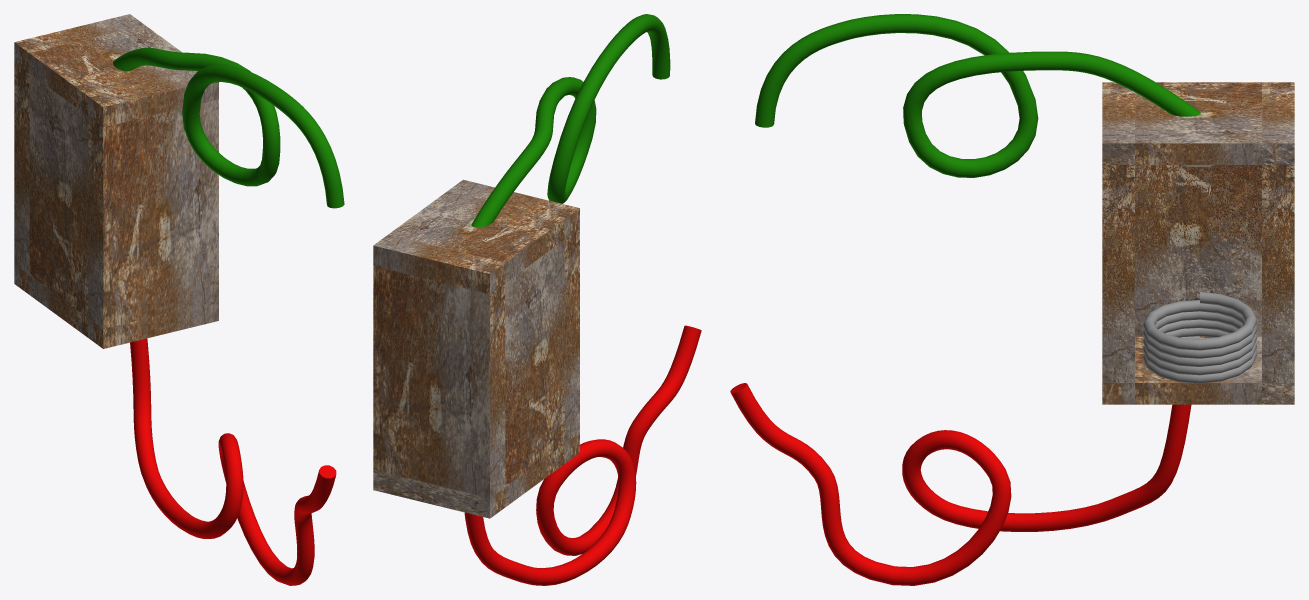
Rendered from batterybox-textured.fbx.
The picture shows the model from 3 angles, left to right: view 1: azimuth 30°, elevation 25°; view 2: azimuth 150°, elevation 25°; view 3: azimuth 270°, elevation 25°; orthographic projection. The views are drawn at different scales.
Visible parts, largest first — view 1: Box, WireBottom, WireTop; view 2: Box, WireBottom, WireTop; view 3: Box, WireBottom, WireTop, ThinSpiral.
Boxes of the visible parts, bbox=[...] form: Box: bbox=[14, 14, 218, 348]; WireBottom: bbox=[130, 338, 336, 585]; WireTop: bbox=[113, 47, 344, 208]; Box: bbox=[373, 179, 579, 518]; WireBottom: bbox=[464, 325, 701, 585]; WireTop: bbox=[471, 14, 670, 227]; Box: bbox=[1102, 82, 1294, 404]; WireBottom: bbox=[730, 383, 1191, 585]; WireTop: bbox=[755, 14, 1200, 177]; ThinSpiral: bbox=[1143, 291, 1256, 383].
Size of the model in its own units: 619 by 2546 by 2348.
5 materials, 2 textured.
